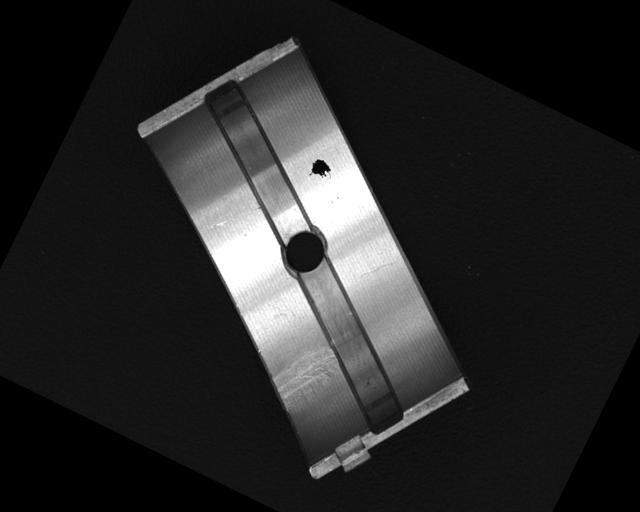blot: (304, 155, 337, 187)
gap: (254, 250, 446, 435), (166, 73, 349, 243)
hole: (275, 222, 332, 280)
nick: (208, 188, 261, 244), (359, 249, 395, 289)
scratch: (264, 331, 345, 421)
